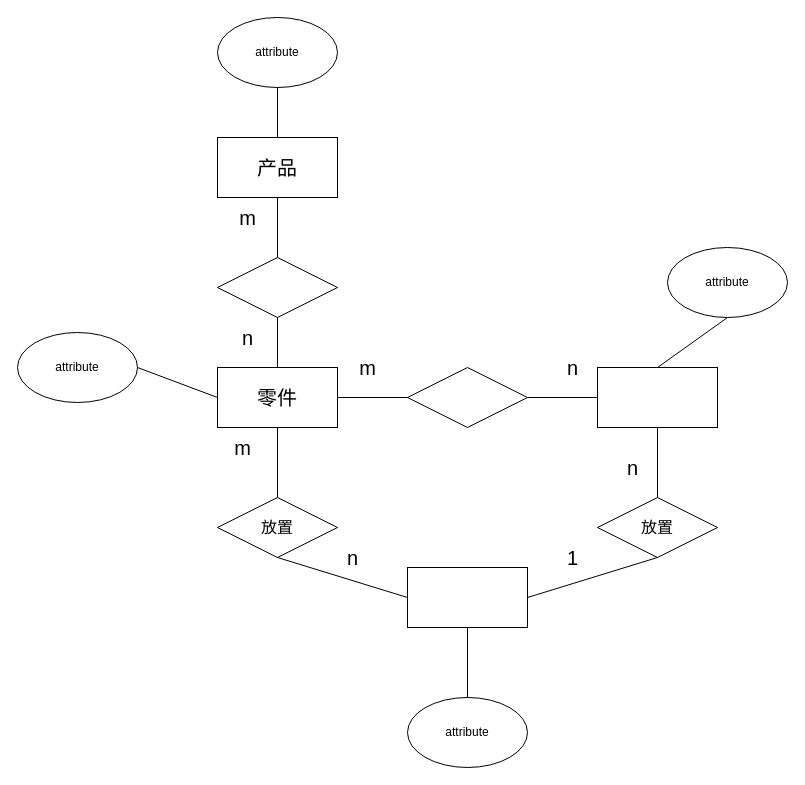
Some shapes in this 805 by 785 pixel diagram are drawn without their labels. The shapes that lost their labels are listed below. From the top down, each one's box as (x1, y1, x2, y2) in pixels, then its label:
(216, 256, 338, 318): 组成
(406, 366, 528, 428): 制成
(596, 366, 718, 428): 材料
(406, 566, 528, 628): 仓库
